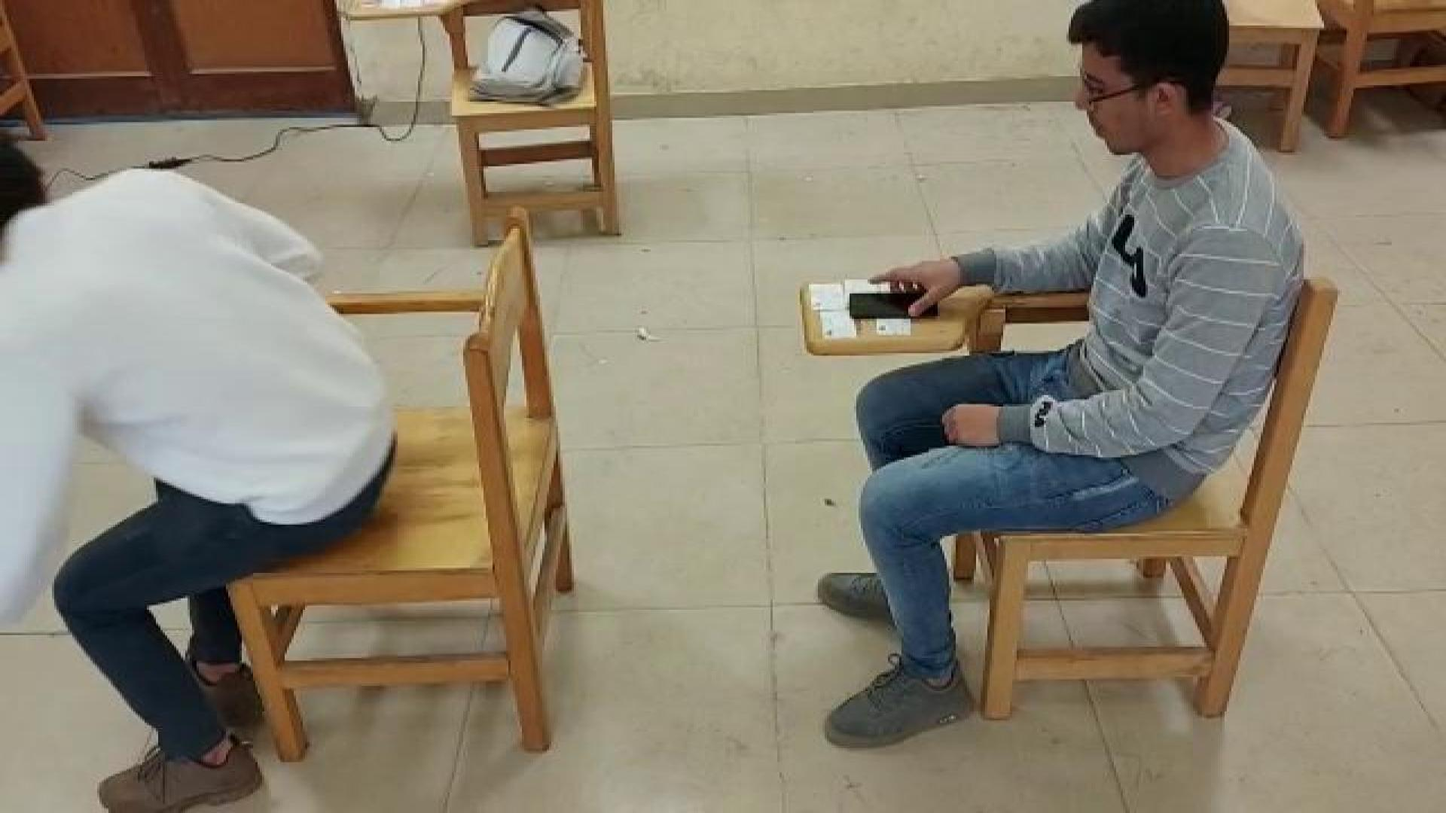phone: (843, 288, 949, 324)
